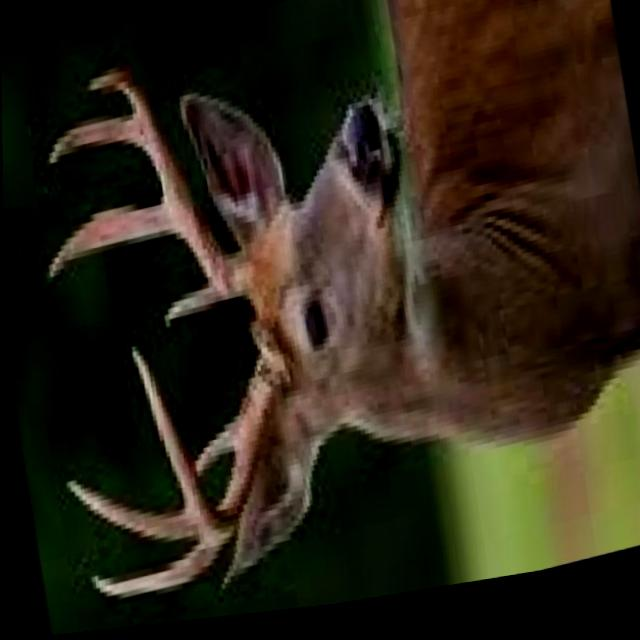L-F: (128, 340, 291, 550)
L-G1: (192, 419, 235, 482)
L-G2: (86, 546, 224, 602)
L-G3: (62, 480, 196, 546)
R-F: (84, 68, 251, 305)
R-G1: (160, 289, 222, 334)
R-G2: (42, 202, 175, 285)
R-G3: (46, 119, 141, 168)
